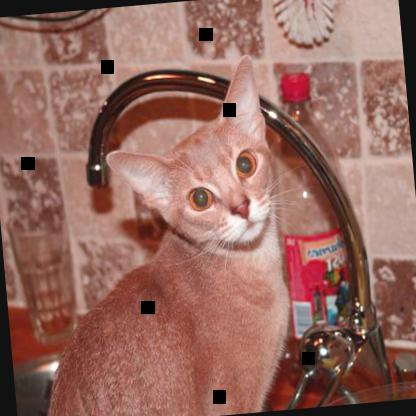cat: (1, 53, 300, 415)
